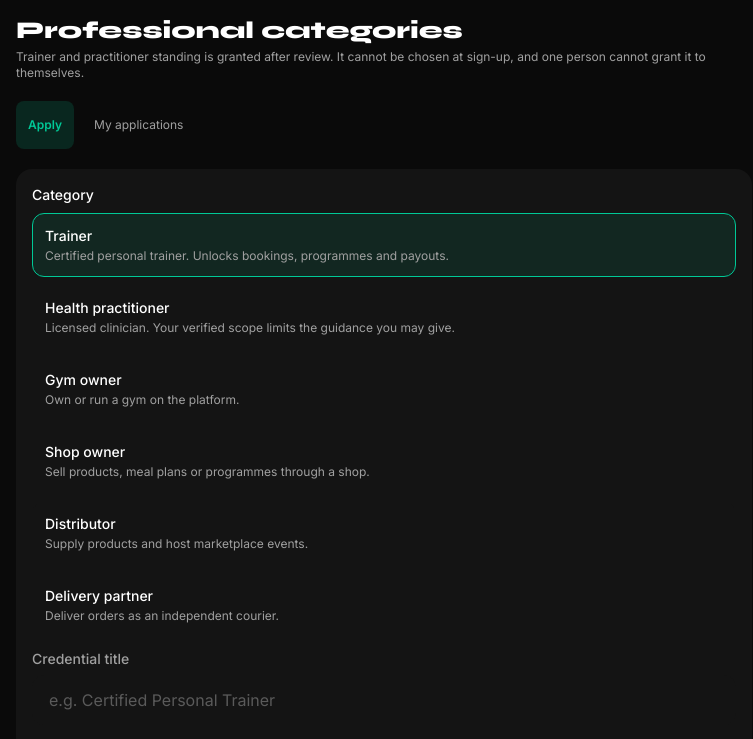
Test: CategoryApplication › asks for a gym handle only for the gym_owner category
This screenshot has width=753, height=739.
Expected: the heading "Professional categories" is shown, [16, 16, 463, 45]
Expected: the field labelled "Gym handle" is not shown
Click the button "Gym owner Own or run a gym on the platform.". click: [83, 380]
box: [32, 357, 736, 421]
(page scrolled)
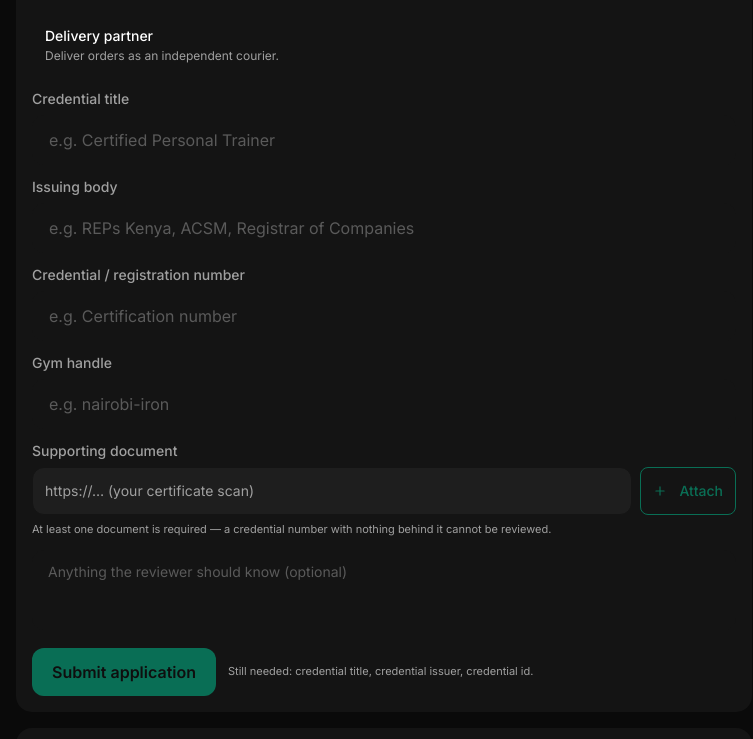
Expected: the field labelled "Gym handle" is shown, [32, 379, 736, 429]
